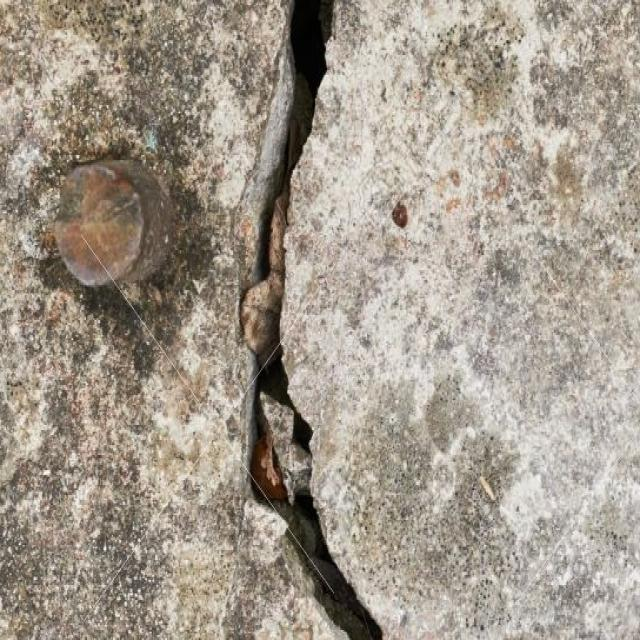Longitudinal: (197, 0, 398, 640)
